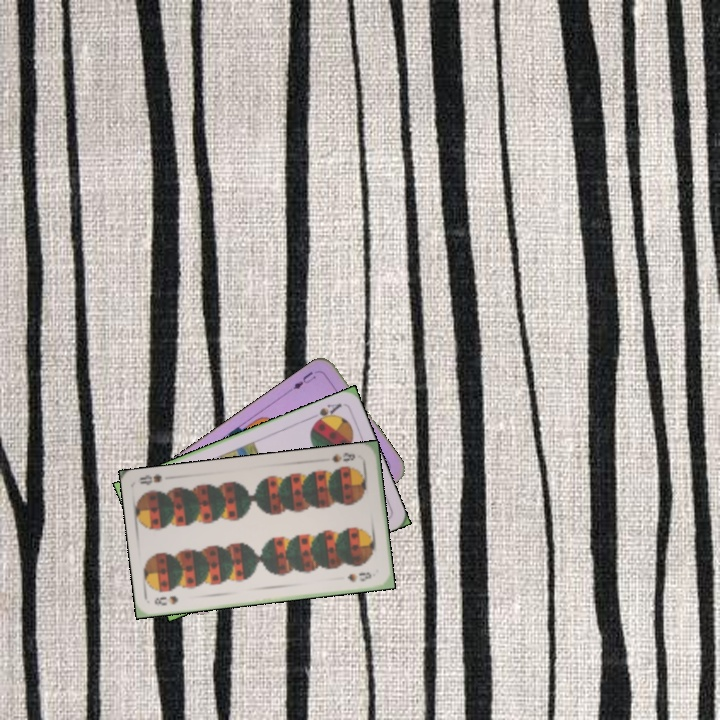EU: (285, 367, 318, 394)
S8: (328, 448, 358, 465), (150, 592, 181, 608)
SA: (306, 399, 344, 427)
